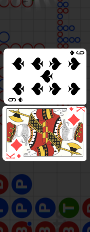9C: (6, 96, 24, 104)
KD: (5, 153, 22, 160)
